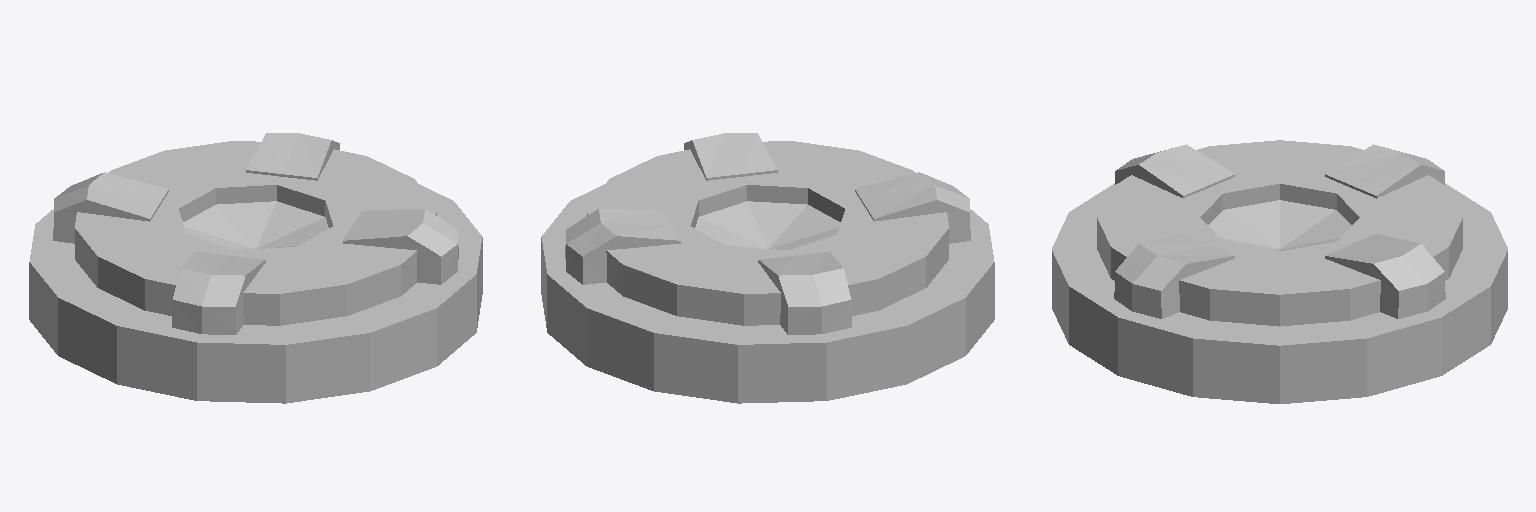
The model's file is weapon_pickup.obj.
The picture shows the model from 3 angles: view 1: azimuth 30°, elevation 25°; view 2: azimuth 150°, elevation 25°; view 3: azimuth 270°, elevation 25°; orthographic projection.
Bounding box in the file's own units: 3.53 × 0.8845 × 3.53.